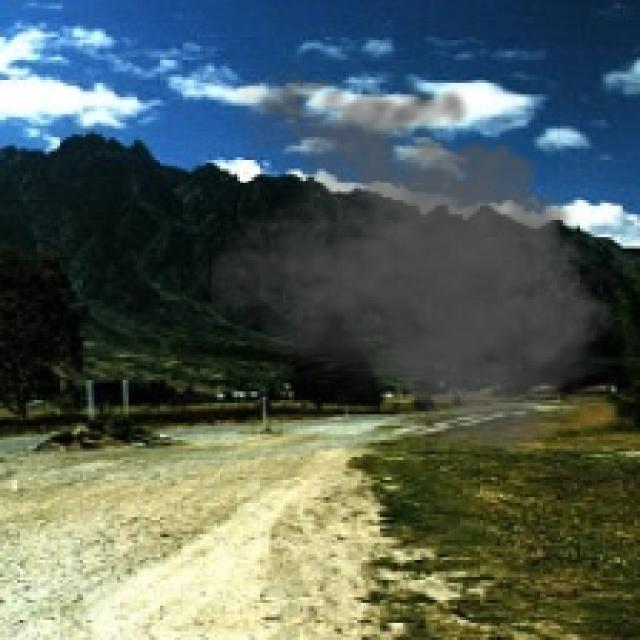smoke: (212, 63, 632, 460)
